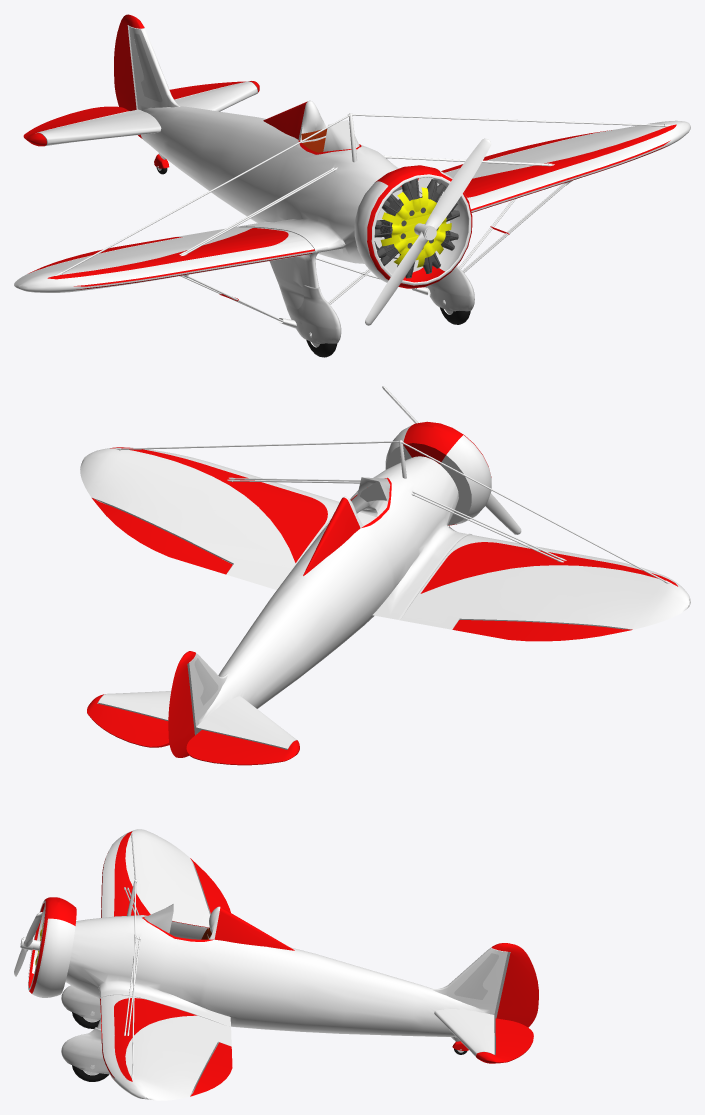
3 views of the same model, one above another, from view 1: azimuth 30°, elevation 25°; view 2: azimuth 150°, elevation 25°; view 3: azimuth 270°, elevation 25° (orthographic). The views are drawn at different scales.
Parts seen in each view (by area): view 1: Layer0_001, Group_007, Group_005, Group_008, Group_006, Group_017, Group_016, Group_013, Group_004, Group_003; view 2: Layer0_001, Group_005, Group_007, Group_006, Group_008; view 3: Layer0_001, Group_005, Group_007, Group_006, Group_013, Group_008, Group_017, Group_003, Group_004.
Boxes of the visible parts, x1,y1,x2,y2 form: Layer0_001: [23, 14, 673, 328]; Group_007: [14, 227, 343, 292]; Group_005: [441, 120, 690, 212]; Group_008: [47, 228, 314, 289]; Group_006: [464, 124, 676, 212]; Group_017: [287, 285, 341, 343]; Group_016: [269, 252, 318, 309]; Group_013: [425, 265, 474, 311]; Group_004: [298, 120, 361, 154]; Group_003: [134, 33, 162, 102]; Layer0_001: [87, 386, 671, 765]; Group_005: [80, 447, 377, 589]; Group_007: [400, 526, 690, 641]; Group_006: [110, 447, 327, 562]; Group_008: [420, 542, 677, 593]; Layer0_001: [14, 833, 538, 1079]; Group_005: [98, 986, 232, 1100]; Group_007: [101, 829, 230, 927]; Group_006: [100, 998, 196, 1081]; Group_013: [61, 1027, 109, 1074]; Group_008: [101, 831, 150, 917]; Group_017: [61, 985, 100, 1019]; Group_003: [454, 953, 498, 999]; Group_004: [142, 904, 213, 941].
Bounding box in the file's own units: 544 × 163 × 584.
